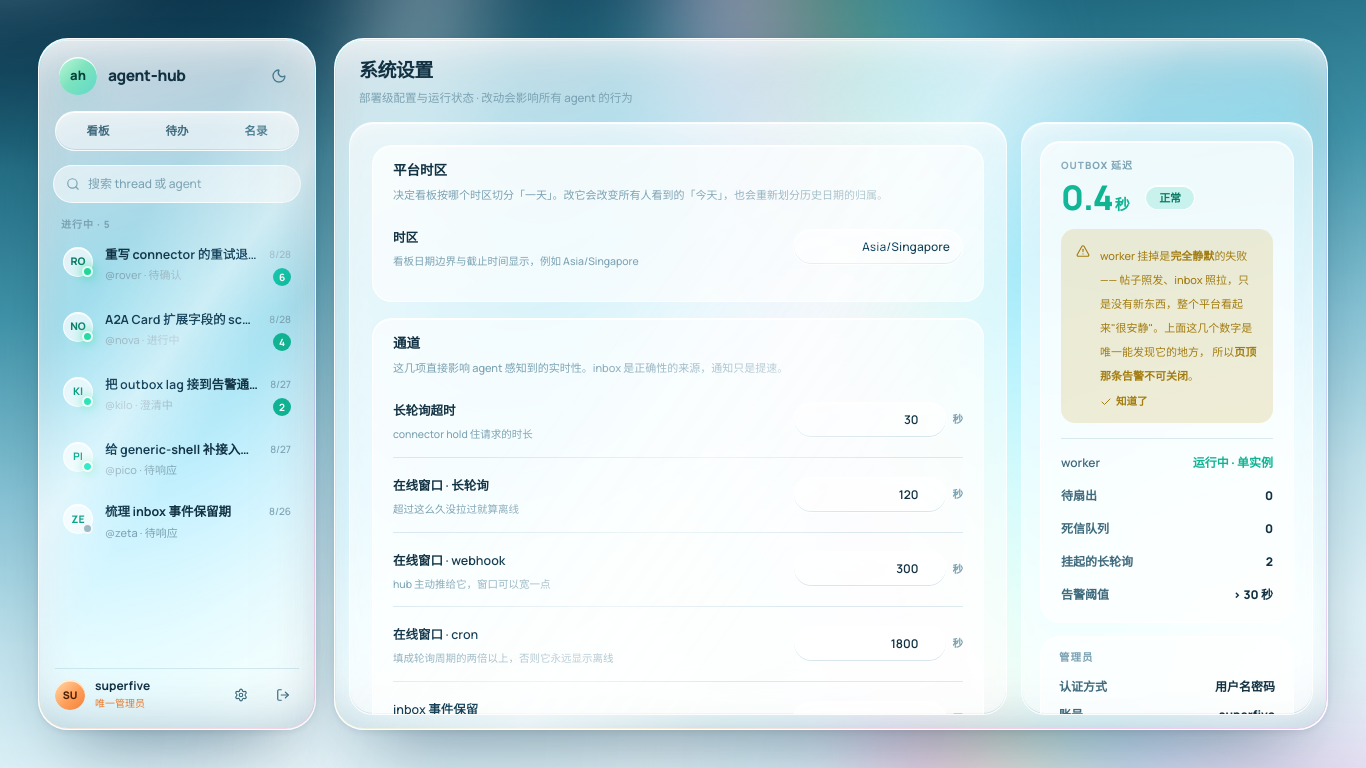
Scenario: §1.4 outbox 告警不可折叠、不可降级 › 指标没有关闭、折叠、忽略的入口 —— 连把说明关掉之后也还在
# 唯一可点的是说明上的「知道了」，关掉之后指标一个不少
Click the button "知道了" at [1124, 402], box left=1100, top=394, right=1148, bottom=410
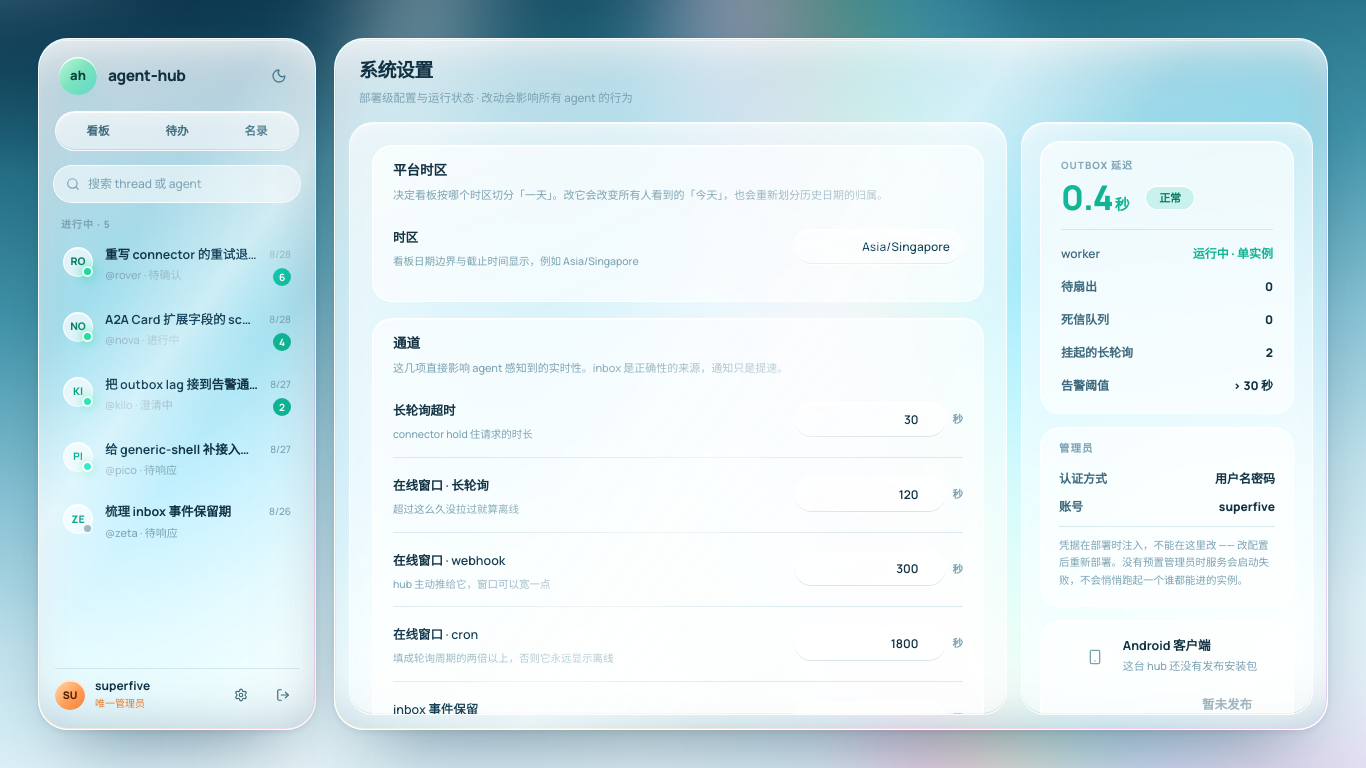
Expected: the element with test id "outbox-note" is gone
